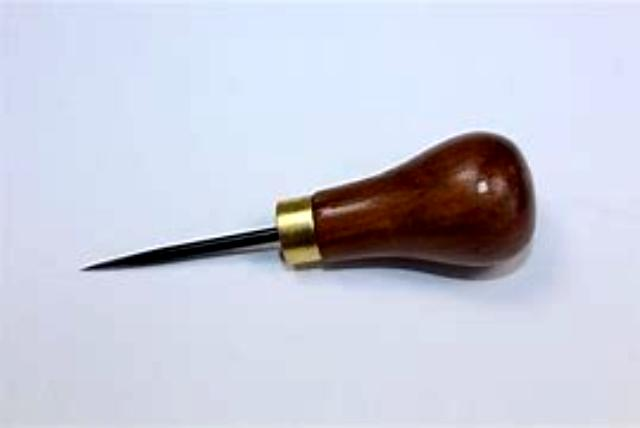ice pick: (79, 127, 545, 300)
